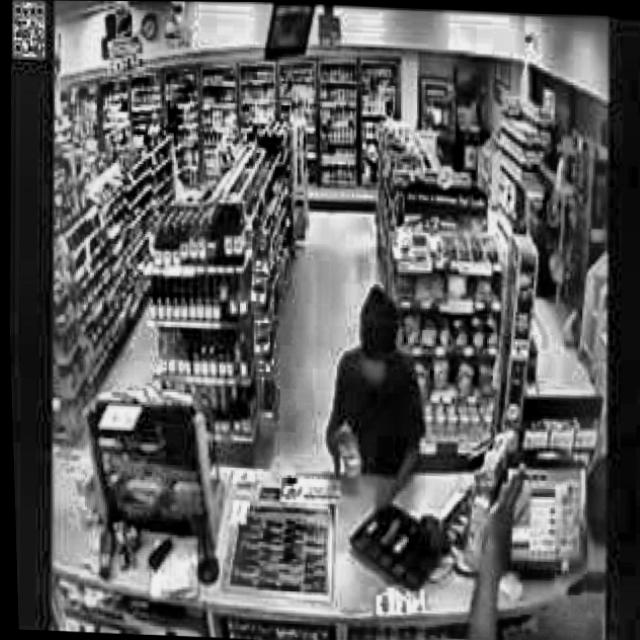robbery: (452, 451, 606, 640), (313, 281, 433, 521)
